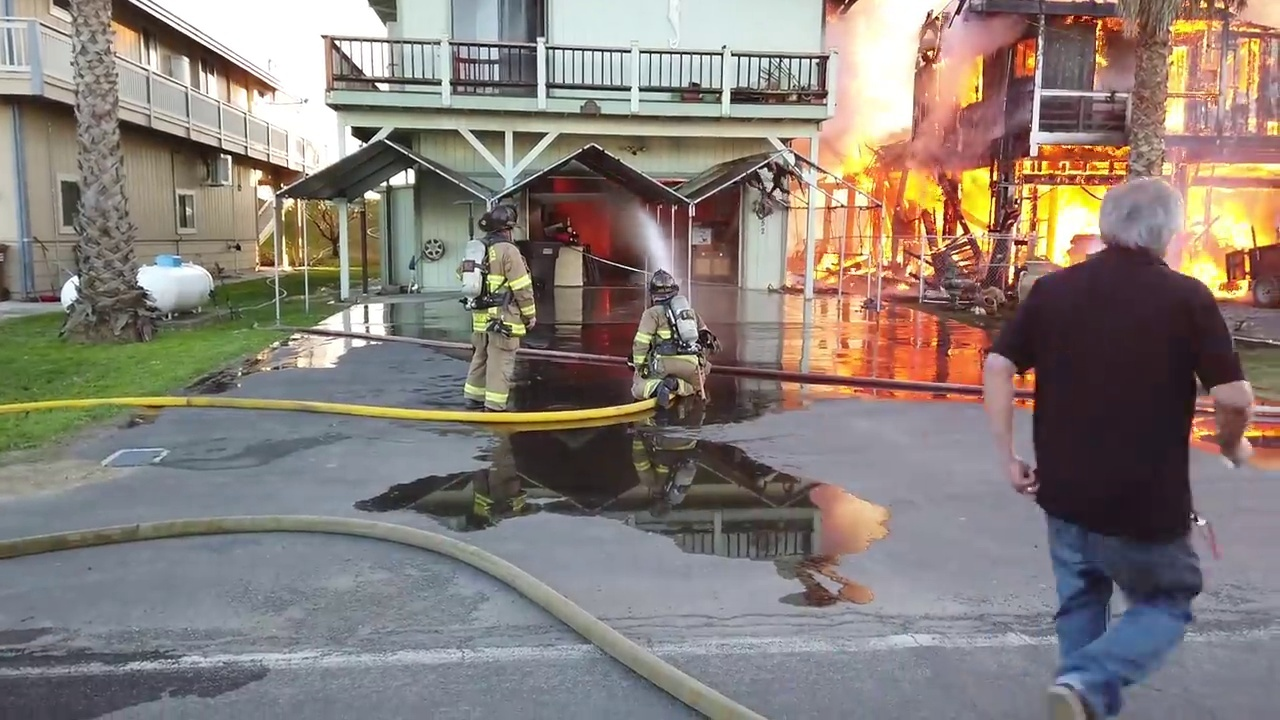fire: (811, 1, 944, 165), (810, 173, 993, 259), (1163, 18, 1280, 134), (1186, 161, 1279, 306), (1026, 152, 1099, 261), (552, 185, 608, 253), (1082, 11, 1124, 74), (949, 58, 985, 102), (1014, 38, 1036, 78)
smoke: (950, 109, 1126, 157), (940, 3, 1029, 54)
